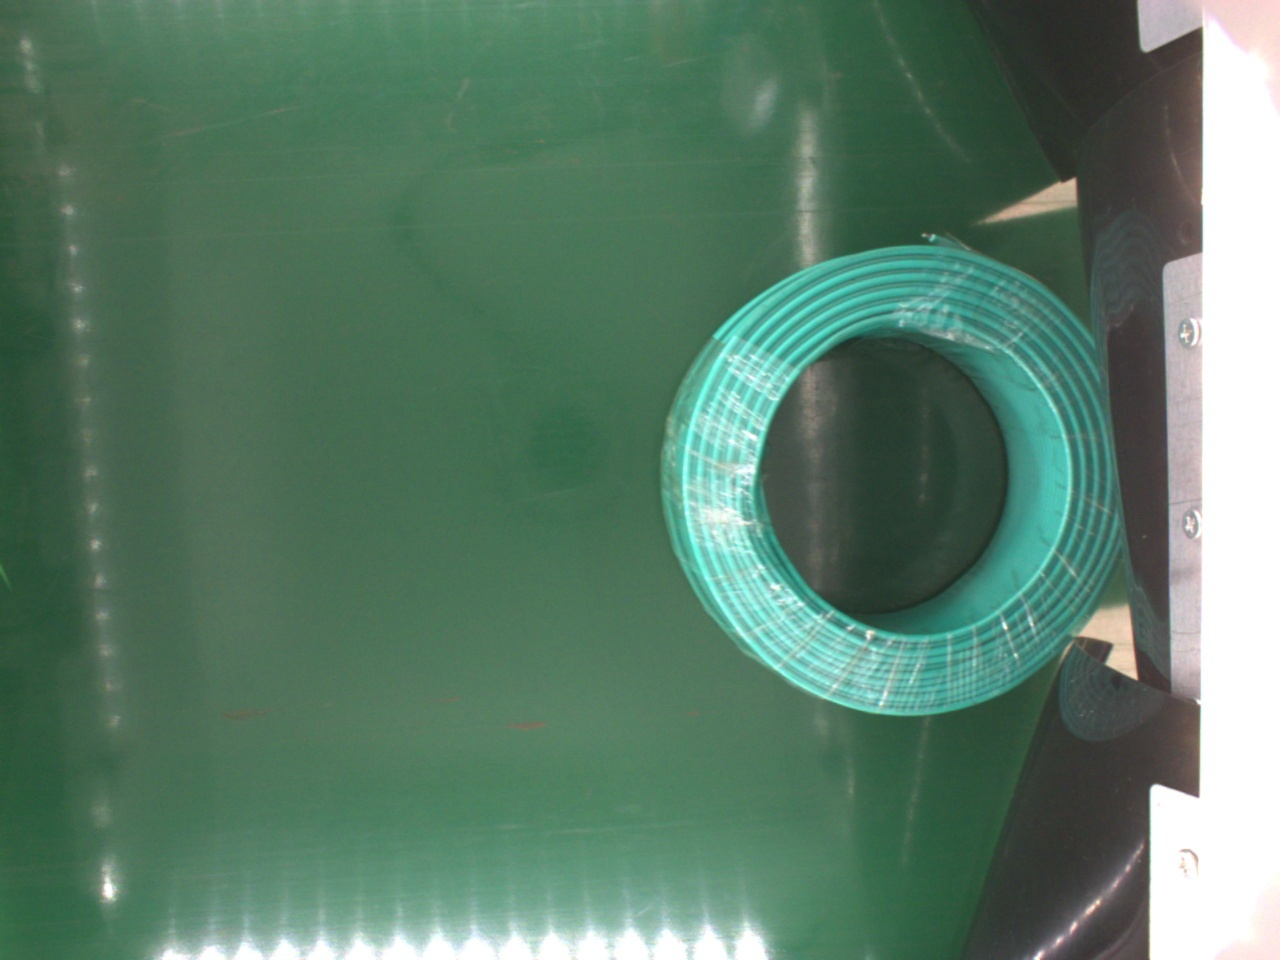green: (665, 243, 1125, 718)
